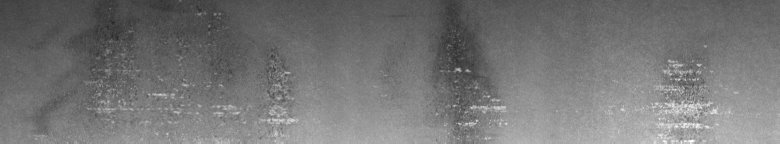hc: (439, 30, 506, 136)
